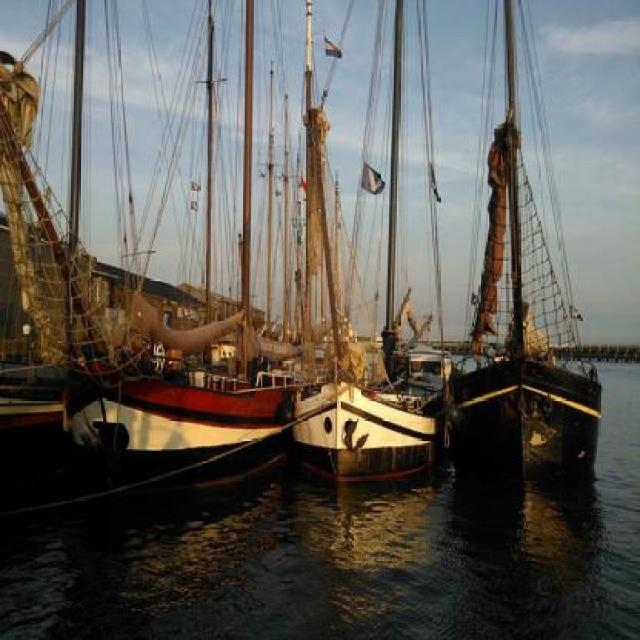ship: (0, 40, 295, 507), (285, 56, 433, 478), (444, 114, 604, 480)
